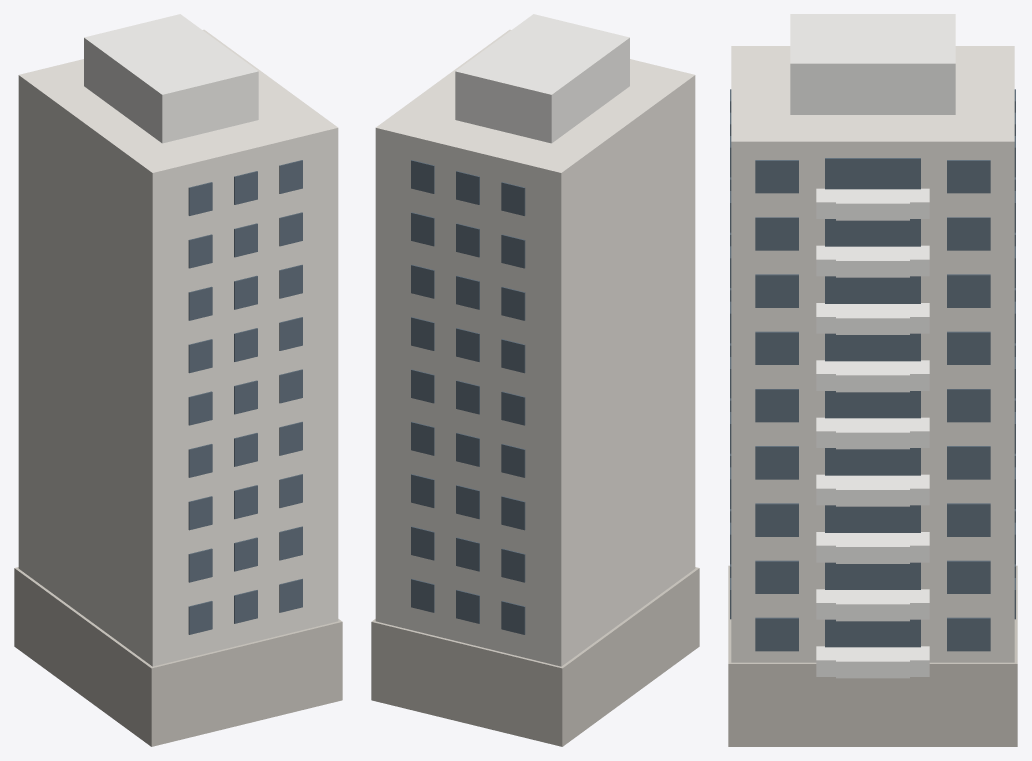
Rendered from rambla_building_14.glb.
3 views of the same model, side by side, from view 1: azimuth 30°, elevation 25°; view 2: azimuth 150°, elevation 25°; view 3: azimuth 270°, elevation 25° (orthographic). The views are drawn at different scales.
Visible parts, largest first — view 1: RamblaBuilding_14; view 2: RamblaBuilding_14; view 3: RamblaBuilding_14.
Boxes of the visible parts, bbox=[...] form: RamblaBuilding_14: bbox=[14, 14, 342, 746]; RamblaBuilding_14: bbox=[371, 14, 699, 746]; RamblaBuilding_14: bbox=[728, 14, 1017, 746].
Bounding box in the file's own units: 12.2 × 33.2 × 13.3.
